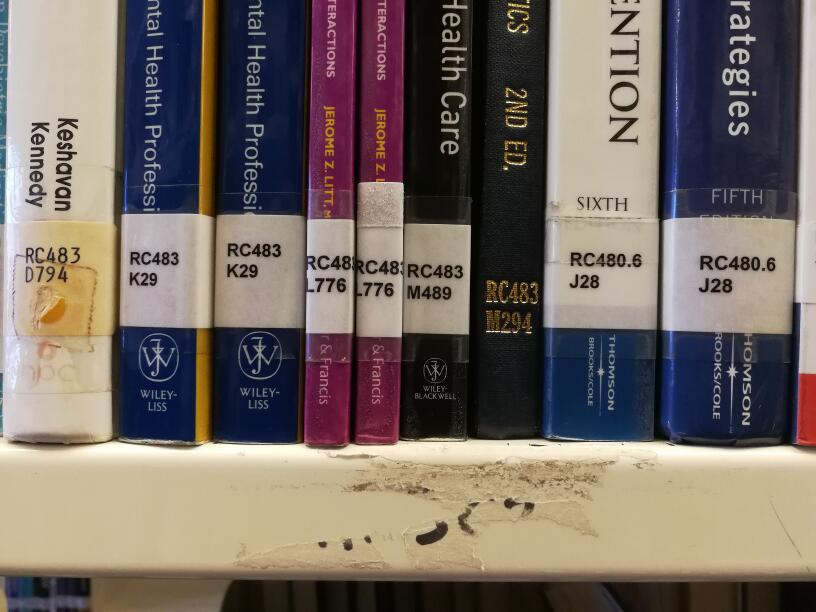booklabel: (696, 253, 777, 295), (483, 277, 541, 335), (567, 249, 645, 289), (23, 244, 83, 285), (406, 261, 465, 302), (223, 239, 283, 279), (125, 247, 182, 288), (302, 253, 353, 294), (356, 255, 403, 297)
